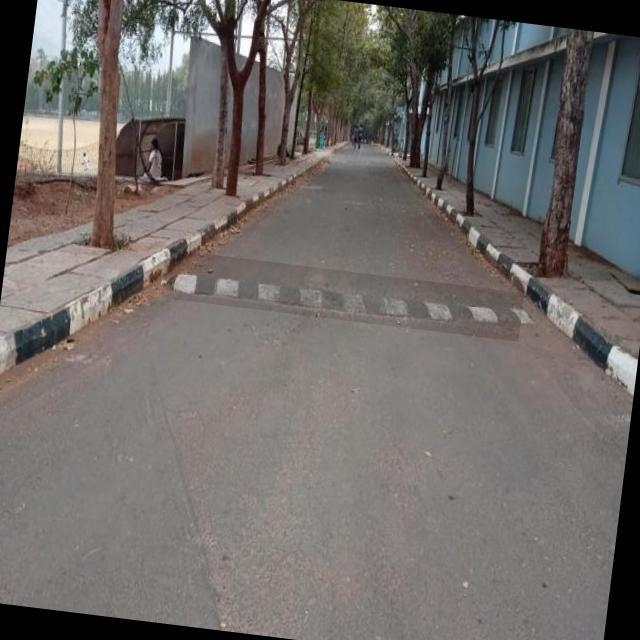speedbreaker: (160, 248, 523, 342)
